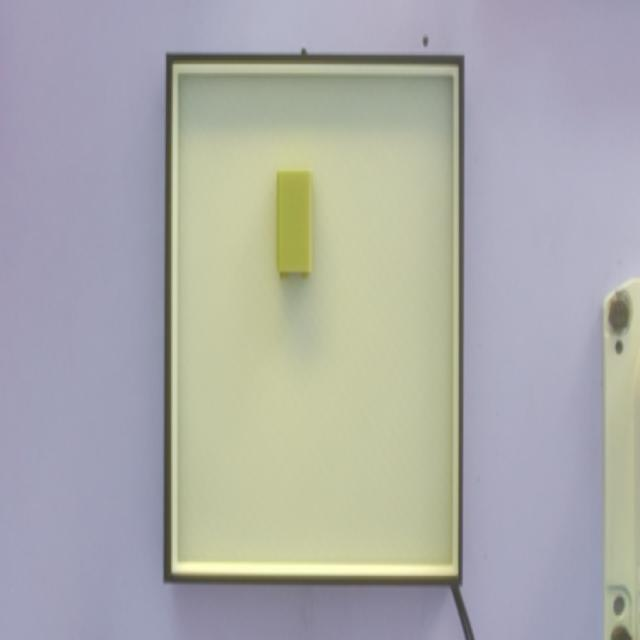bateria: (275, 175, 313, 284)
mesa: (164, 53, 465, 585)
